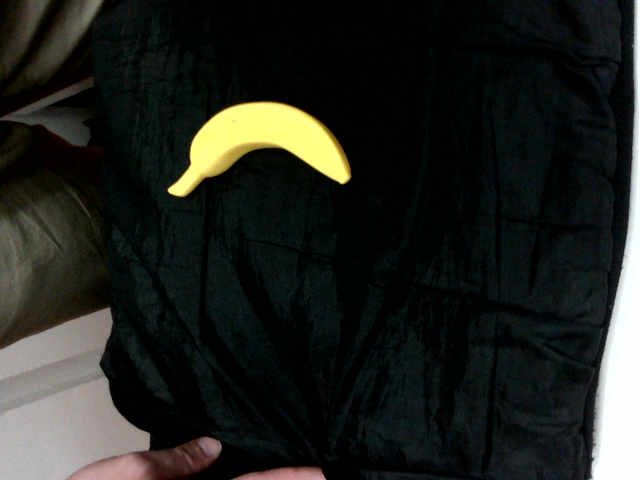banana: (161, 94, 351, 197)
